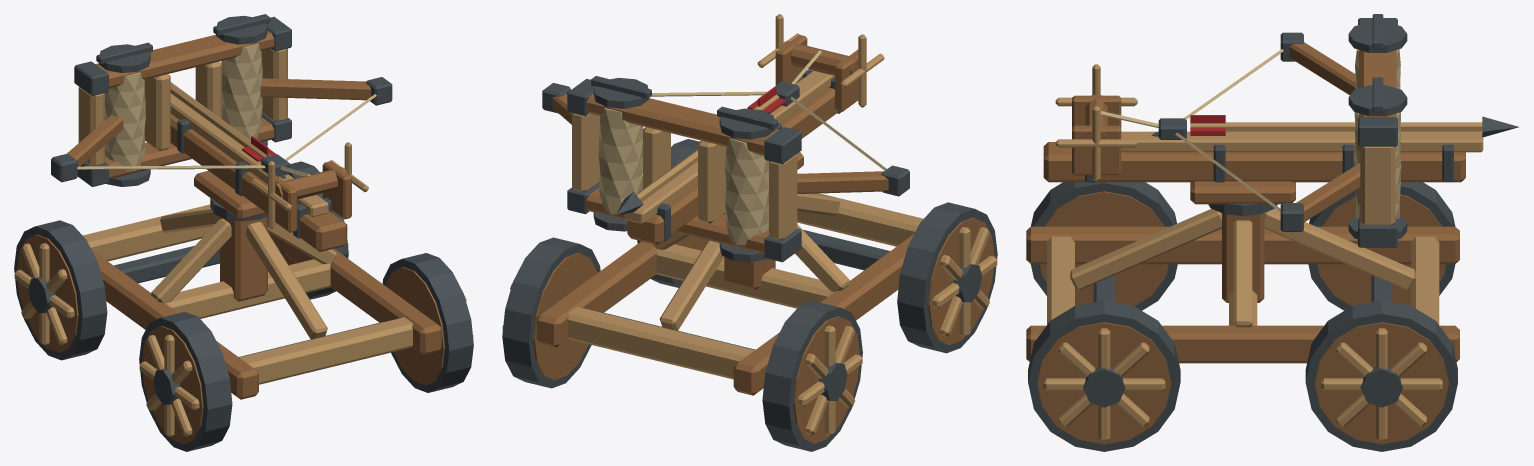
The model's file is ballista-v6.glb.
3 renders of one model, left to right at view 1: azimuth 30°, elevation 25°; view 2: azimuth 150°, elevation 25°; view 3: azimuth 270°, elevation 25°, orthographic. The views are drawn at different scales.
Visible parts, largest first — view 1: Cross_Beam, Tyre.002, Tyre, Tyre.001, Chassis_Long.001, Stock, Chassis_Long, Cross_Beam.001, Torsion_Skein.001, Torsion_Skein, Frame_Bar.001, Cross_Beam.002 (+38 smaller); view 2: Cross_Beam.002, Tyre.002, Tyre, Tyre.003, Chassis_Long.001, Chassis_Long, Torsion_Skein, Cross_Beam.001, Torsion_Skein.001, Frame_Bar.001, Oak_Wheel.003, Cross_Beam (+34 smaller); view 3: Stock, Chassis_Long, Oak_Wheel.001, Oak_Wheel.003, Chassis_Long.001, Slider_Rail, Tyre.001, Tyre.003, Oak_Wheel, Pedestal_Brace.001, Oak_Wheel.002, Tyre (+42 smaller).
Part boxes in pixels (x1,y1,x2,y2): Cross_Beam: (239, 317, 412, 384); Tyre.002: (14, 220, 107, 360); Tyre: (139, 312, 232, 451); Tyre.001: (382, 253, 473, 392); Chassis_Long.001: (268, 233, 441, 354); Stock: (170, 114, 347, 251); Chassis_Long: (91, 249, 258, 399); Cross_Beam.001: (166, 259, 330, 318); Torsion_Skein.001: (221, 43, 262, 140); Torsion_Skein: (105, 72, 145, 171); Frame_Bar.001: (95, 30, 274, 88); Cross_Beam.002: (83, 204, 212, 261); Cross_Beam.002: (568, 306, 754, 379); Tyre.002: (762, 301, 862, 451); Tyre: (897, 202, 997, 353); Tyre.003: (502, 237, 600, 388); Chassis_Long.001: (536, 235, 703, 347); Chassis_Long: (733, 234, 913, 395); Torsion_Skein: (725, 138, 768, 245); Cross_Beam.001: (656, 244, 833, 308); Torsion_Skein.001: (598, 108, 643, 214); Frame_Bar.001: (586, 93, 778, 155); Oak_Wheel.003: (533, 252, 597, 379); Cross_Beam: (797, 193, 923, 246); Stock: (1043, 142, 1465, 182); Chassis_Long: (1026, 226, 1459, 264); Oak_Wheel.001: (1037, 322, 1171, 444); Oak_Wheel.003: (1315, 322, 1448, 444); Chassis_Long.001: (1026, 325, 1459, 363); Slider_Rail: (1121, 131, 1483, 152); Tyre.001: (1028, 300, 1180, 451); Tyre.003: (1305, 300, 1457, 451); Oak_Wheel: (1040, 191, 1168, 306); Pedestal_Brace.001: (1070, 208, 1221, 290); Oak_Wheel.002: (1317, 194, 1446, 305); Tyre: (1030, 182, 1177, 310).
Bounding box in the file's own units: 3.64 × 3.02 × 4.21.
